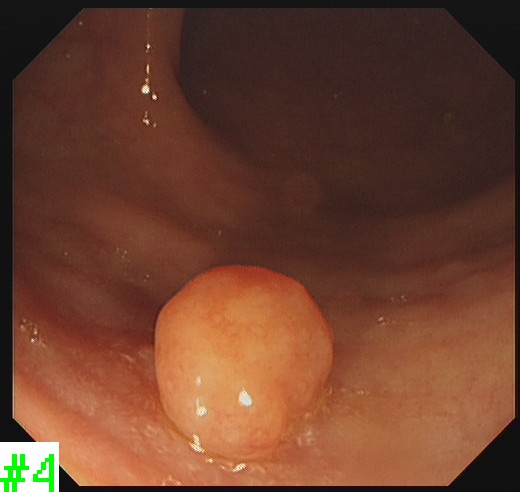others: (150, 261, 337, 458)
